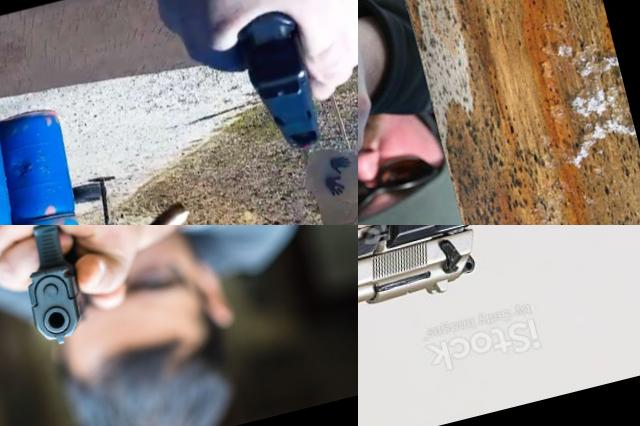handgun: (358, 225, 567, 402), (225, 0, 331, 162), (4, 225, 111, 352), (358, 83, 432, 225)
